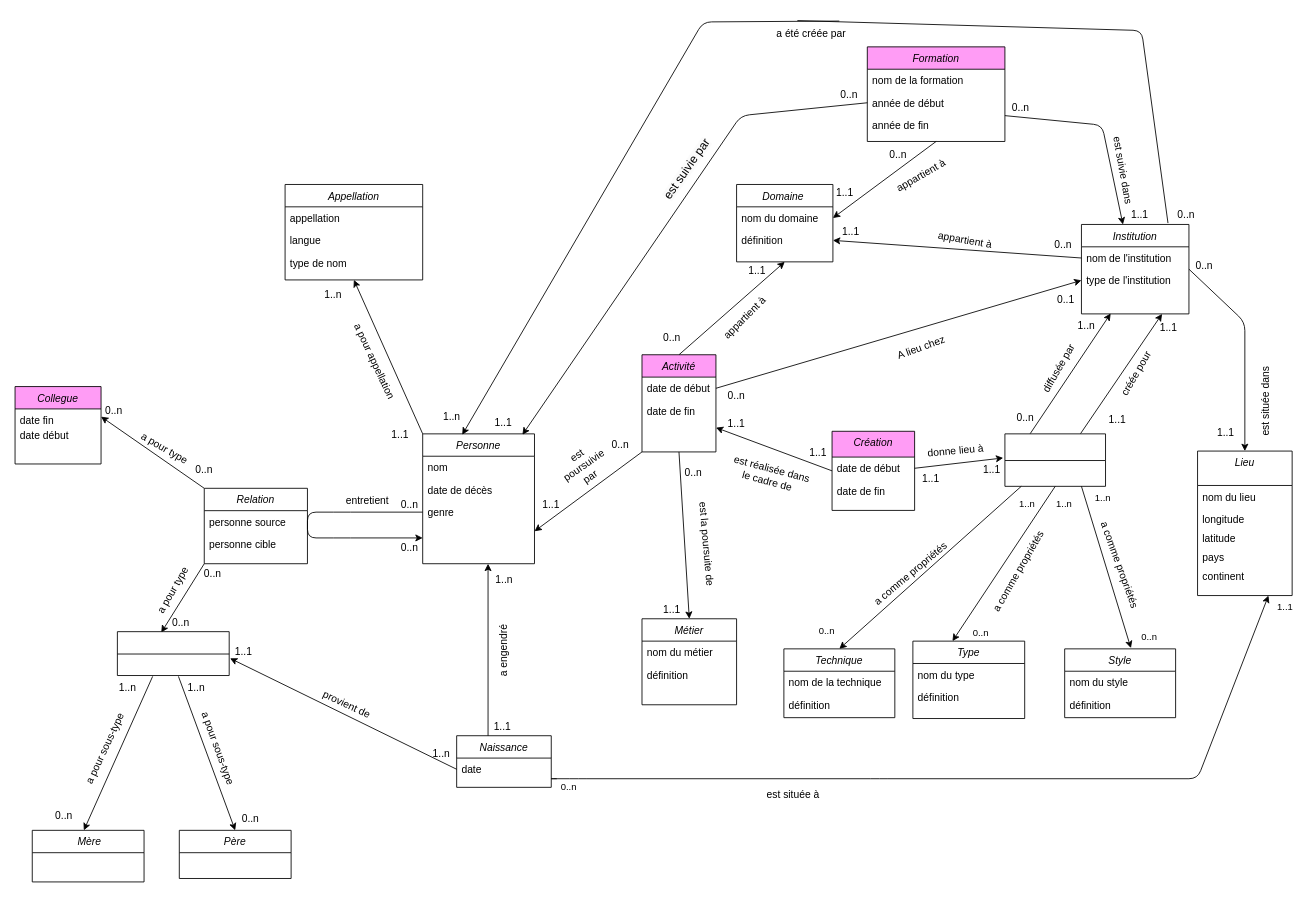
The diagram is 1308 pixels wide and 897 high, and some of its shapes have lost their labels. The centre of each missing label's shape, as x and y in pixels:
"Artefact" belongs at (x=1055, y=459).
"Parent" belongs at (x=173, y=653).
